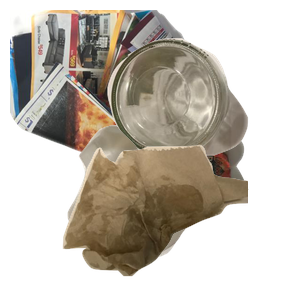glass: (105, 36, 300, 201)
paper: (10, 10, 250, 190)
plastic: (65, 123, 257, 300)
trash: (60, 142, 300, 300)
